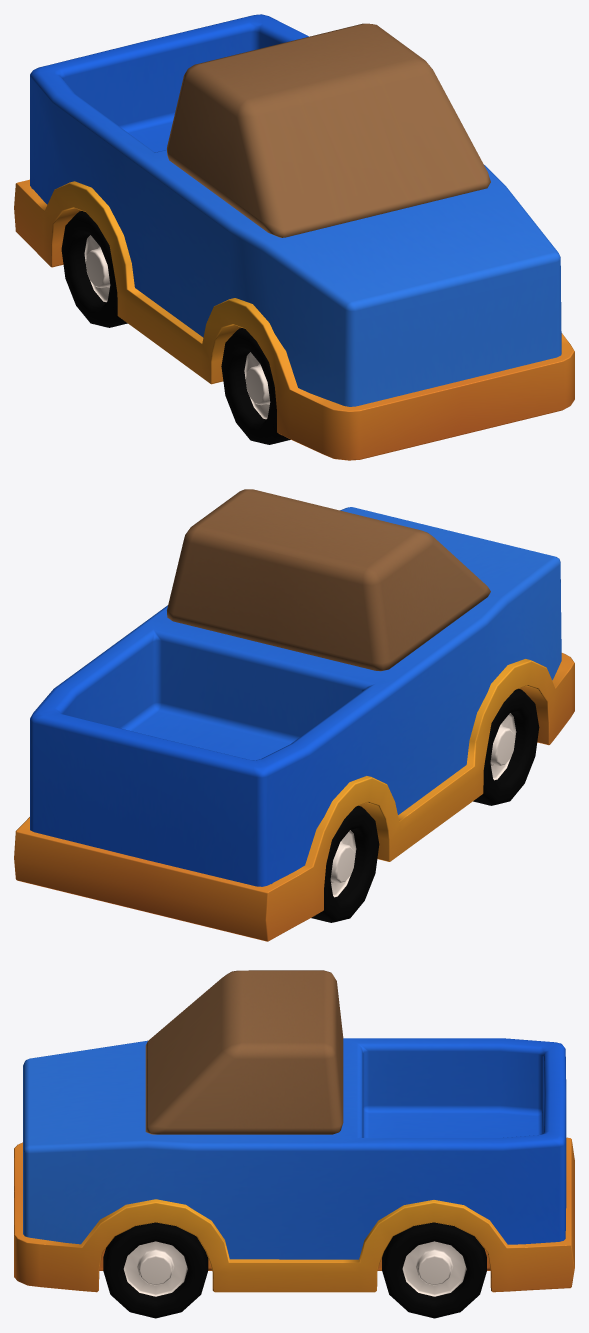
File: Car.fbx
The picture shows the model from 3 angles, top to bottom: view 1: azimuth 30°, elevation 25°; view 2: azimuth 150°, elevation 25°; view 3: azimuth 270°, elevation 25°; orthographic projection. The views are drawn at different scales.
Visible parts, largest first — view 1: Car, FrontRightWheel, BackRightWheel; view 2: Car, BackRightWheel, FrontRightWheel; view 3: Car, FrontLeftWheel, BackLeftWheel.
Part boxes in pixels (<box>): Car: <box>14,14,574,460</box>; FrontRightWheel: <box>221,328,290,444</box>; BackRightWheel: <box>61,211,127,327</box>; Car: <box>14,489,574,941</box>; BackRightWheel: <box>311,805,379,922</box>; FrontRightWheel: <box>473,688,539,805</box>; Car: <box>14,970,574,1292</box>; FrontLeftWheel: <box>103,1222,208,1318</box>; BackLeftWheel: <box>382,1222,486,1318</box>.
Bounding box in the file's own units: 203 × 210 × 414.
